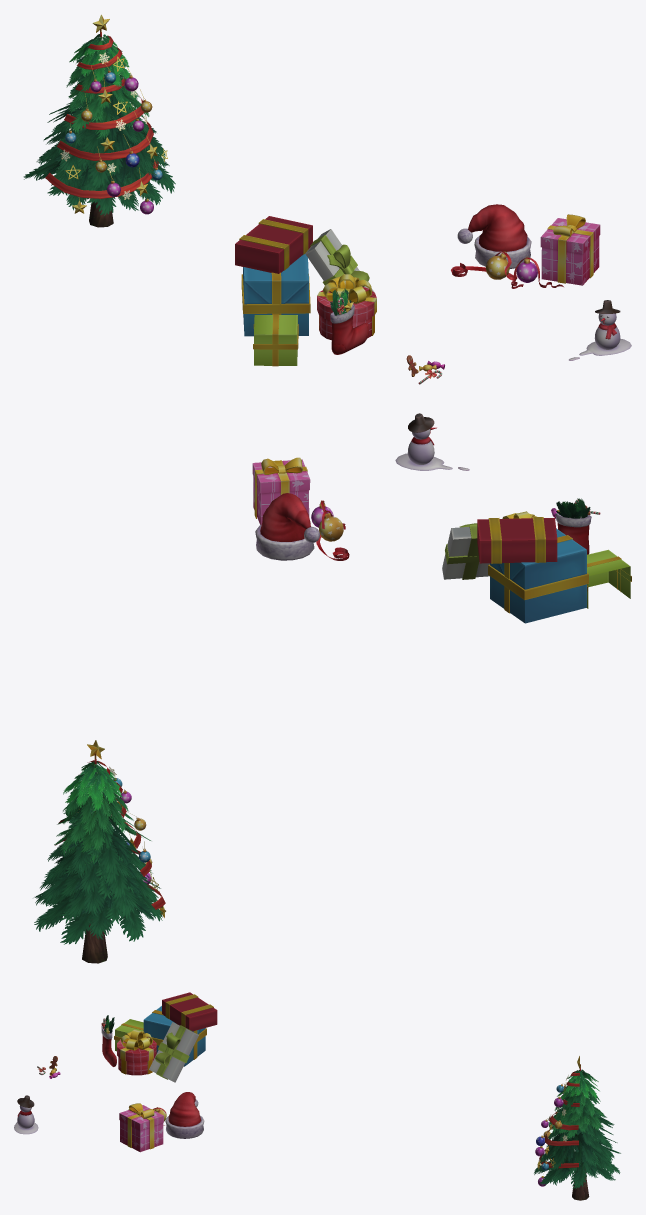
The model's file is ShengDanJie_WuJian_01.FBX.
3 views of the same model, one above another, from view 1: azimuth 30°, elevation 25°; view 2: azimuth 150°, elevation 25°; view 3: azimuth 270°, elevation 25° (orthographic). The views are drawn at different scales.
Visible parts, largest first — view 1: ShengDanJie_wujian, ShengDanJie_touming_01, Object047; view 2: ShengDanJie_wujian, ShengDanJie_touming_01, Object047; view 3: ShengDanJie_wujian, ShengDanJie_touming_01, Object047.
Boxes of the visible parts, <box> form: ShengDanJie_wujian: <box>45,14,600,384</box>; ShengDanJie_touming_01: <box>23,34,351,315</box>; Object047: <box>569,300,631,360</box>; ShengDanJie_wujian: <box>55,457,631,963</box>; ShengDanJie_touming_01: <box>34,498,590,944</box>; Object047: <box>395,413,469,470</box>; ShengDanJie_wujian: <box>37,992,589,1200</box>; ShengDanJie_touming_01: <box>104,1015,620,1189</box>; Object047: <box>14,1095,38,1134</box>.
Size of the model in its own units: 1092 by 669 by 2429.
